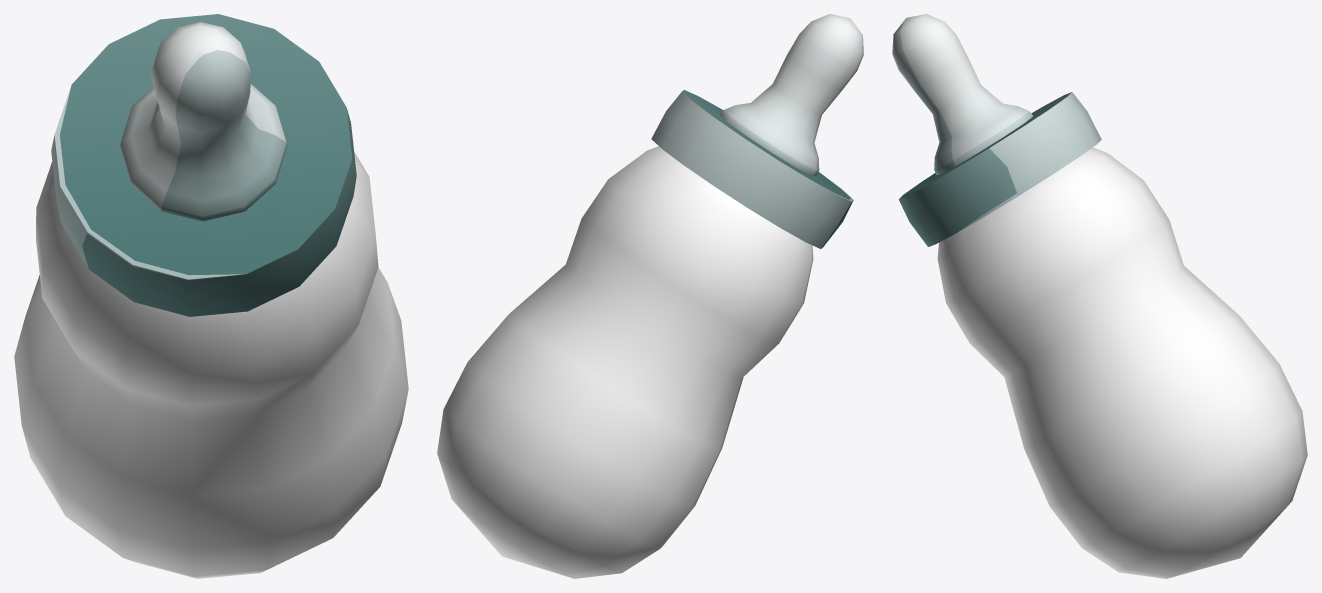
File: Mercy_BabyBottle.fbx
3 renders of one model, left to right at view 1: azimuth 30°, elevation 25°; view 2: azimuth 150°, elevation 25°; view 3: azimuth 270°, elevation 25°, orthographic. The views are drawn at different scales.
Visible parts, largest first — view 1: Mercy_BabyBottle; view 2: Mercy_BabyBottle; view 3: Mercy_BabyBottle.
Boxes of the visible parts, x1,y1,x2,y2 form: Mercy_BabyBottle: (14, 14, 408, 578); Mercy_BabyBottle: (437, 14, 863, 578); Mercy_BabyBottle: (892, 14, 1307, 578).
Size of the model in its own units: 7.54 by 11.73 by 9.1.
